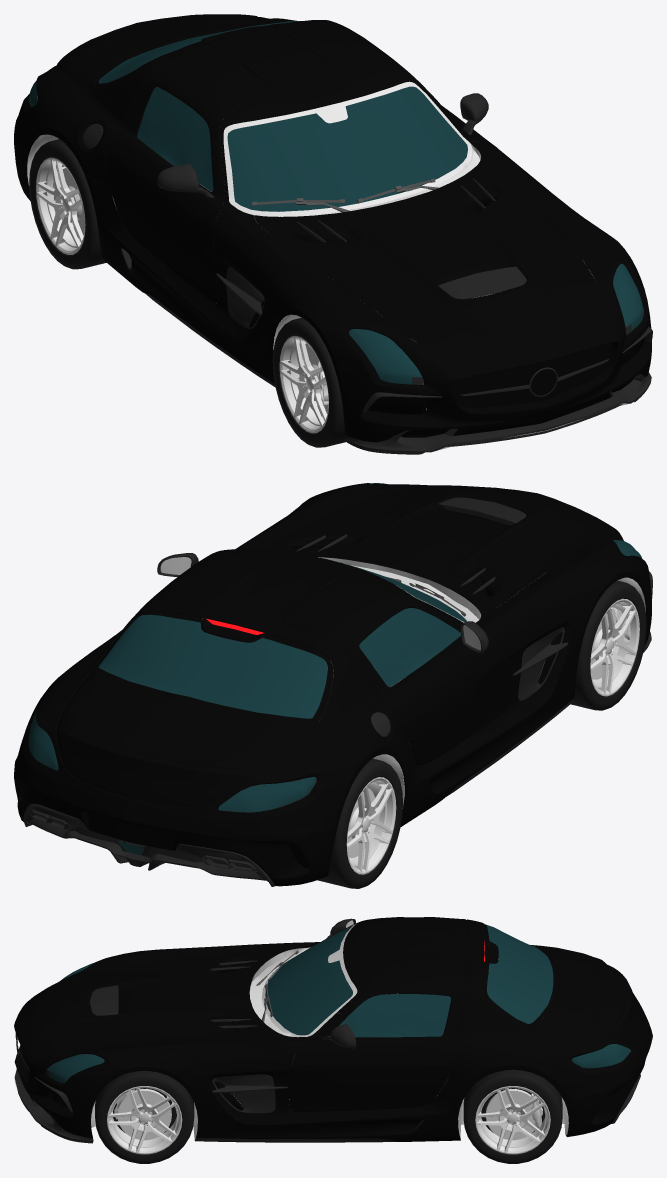
The model's file is Supercar 3.fbx.
3 views of the same model, one above another, from view 1: azimuth 30°, elevation 25°; view 2: azimuth 150°, elevation 25°; view 3: azimuth 270°, elevation 25° (orthographic). The views are drawn at different scales.
Visible parts, largest first — view 1: Body, Glass 2, Outer parts 1, Wheel 3, Wheel 2, Glass 1, Outer parts 2; view 2: Body, Glass 2, Outer parts 1, Wheel 3, Wheel 2, Glass 1, mirrors; view 3: Body, Glass 2, Wheel 1, Wheel 4, Outer parts 1, Glass 1.
Part boxes in pixels (x1,y1,x2,y2): Body: (14, 14, 651, 450); Glass 2: (98, 21, 467, 211); Outer parts 1: (27, 93, 652, 454); Wheel 3: (29, 139, 106, 269); Wheel 2: (272, 317, 346, 447); Glass 1: (29, 80, 643, 384); Outer parts 2: (252, 178, 438, 212); Body: (14, 483, 651, 886); Glass 2: (98, 561, 466, 718); Outer parts 1: (17, 497, 652, 886); Wheel 3: (317, 758, 402, 888); Wheel 2: (571, 580, 646, 710); Glass 1: (29, 483, 641, 854); mirrors: (160, 557, 480, 650); Body: (14, 917, 652, 1141); Glass 2: (265, 925, 553, 1037); Wheel 1: (95, 1071, 194, 1163); Wheel 4: (463, 1069, 562, 1163); Outer parts 1: (14, 918, 642, 1143); Glass 1: (47, 962, 630, 1082).
Size of the model in its own units: 2.75 by 1.73 by 6.16.
